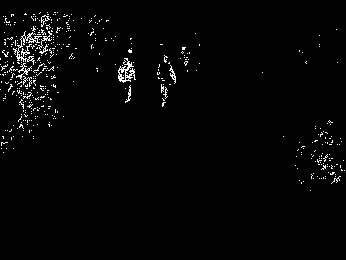person: (119, 45, 137, 102), (156, 51, 174, 108)
